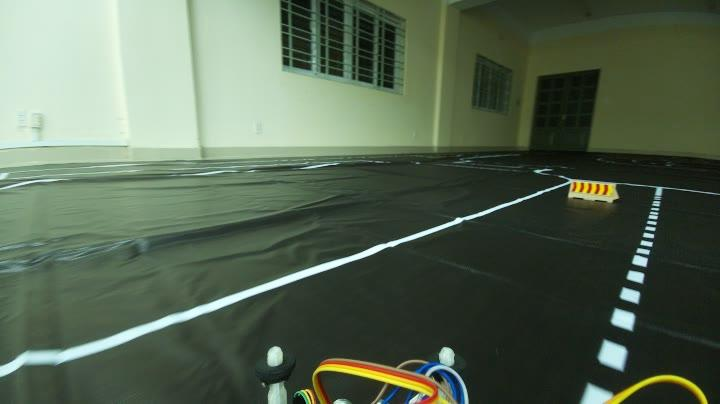roadblock: (566, 174, 622, 205)
